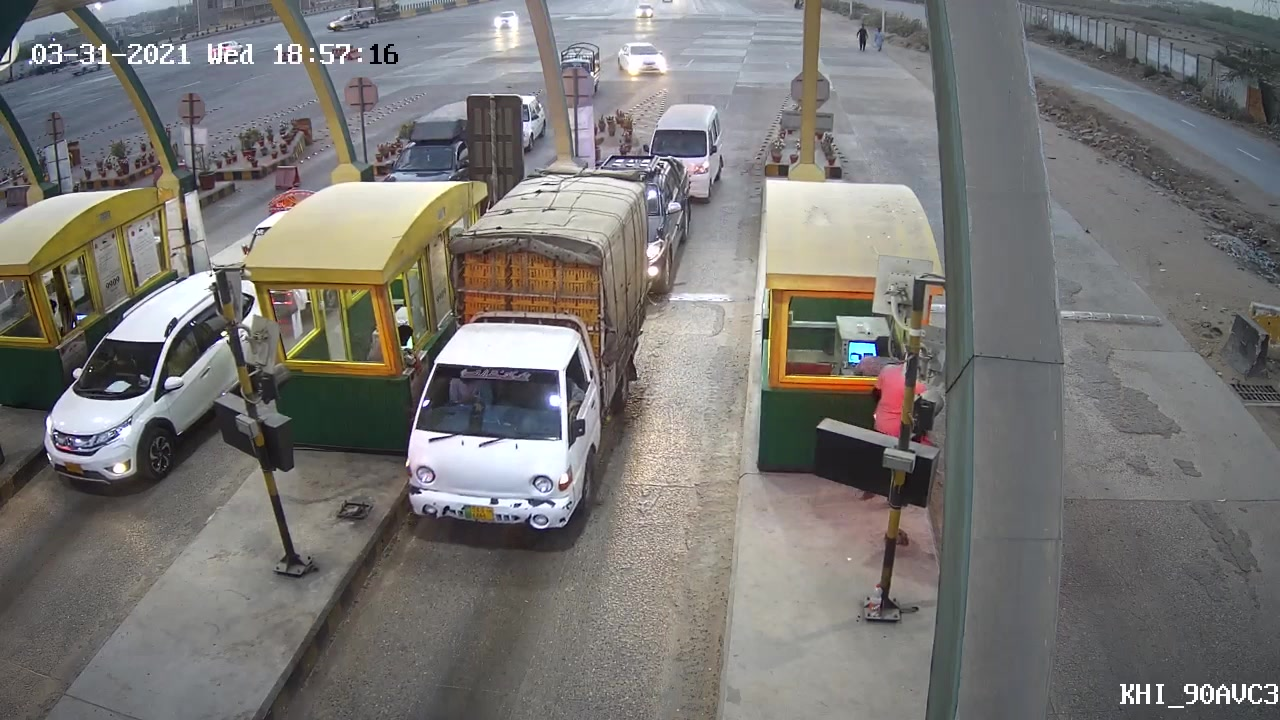F2: (395, 190, 643, 541)
